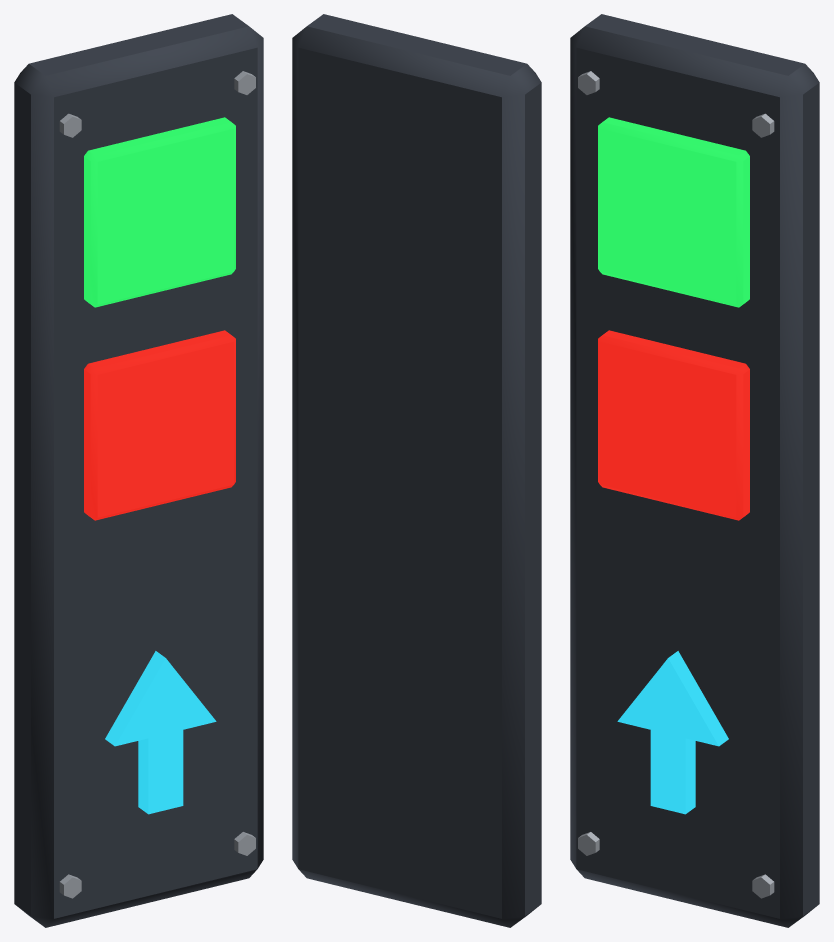
Rendered from panellight_door_side_light.glb.
3 views of the same model, side by side, from view 1: azimuth 30°, elevation 25°; view 2: azimuth 150°, elevation 25°; view 3: azimuth 330°, elevation 25° (orthographic).
Visible parts, largest first — view 1: panellight_door_side_light; view 2: panellight_door_side_light; view 3: panellight_door_side_light.
Part boxes in pixels (x1,y1,x2,y2): panellight_door_side_light: (14, 14, 263, 927); panellight_door_side_light: (292, 14, 541, 927); panellight_door_side_light: (570, 14, 819, 927).
Bounding box in the file's own units: 0.16 × 0.56 × 0.052.
